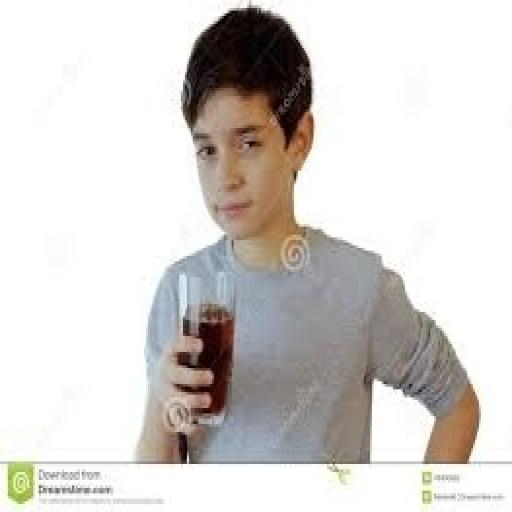drinking: (175, 270, 236, 430)
